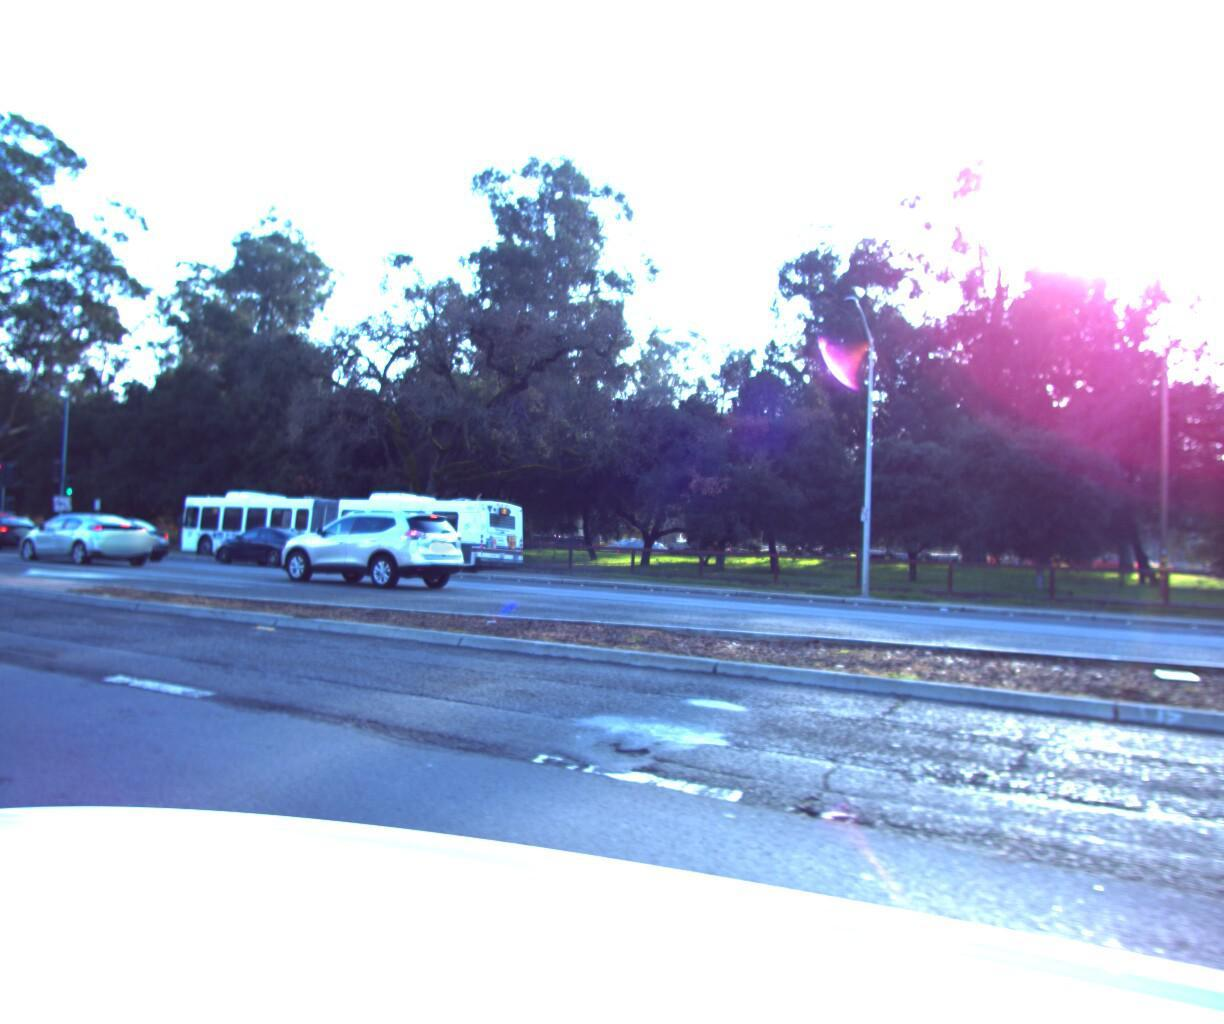bus: (158, 481, 532, 568)
car: (266, 502, 481, 589), (1, 500, 157, 565), (49, 508, 182, 556), (212, 520, 339, 564)
